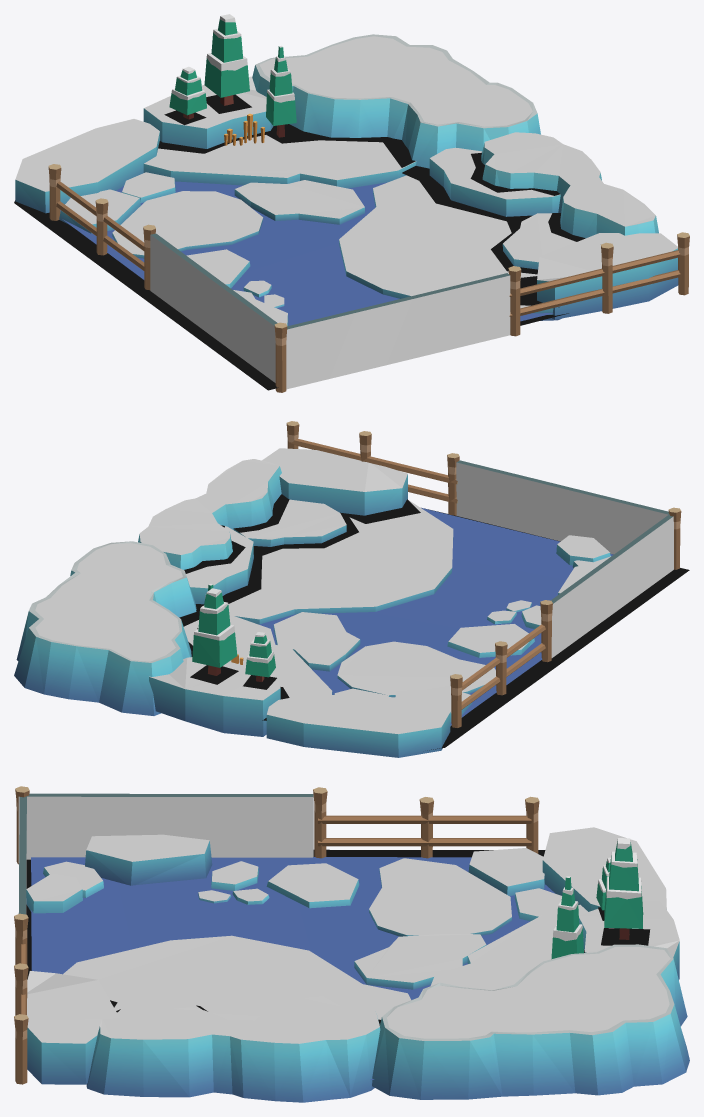
Rendered from xweilan_1021_2.FBX.
3 renders of one model, top to bottom at view 1: azimuth 30°, elevation 25°; view 2: azimuth 150°, elevation 25°; view 3: azimuth 270°, elevation 25°, orthographic. The views are drawn at different scales.
Visible parts, largest first — view 1: xweilan_1021_2; view 2: xweilan_1021_2; view 3: xweilan_1021_2.
Part boxes in pixels (x1,y1,x2,y2): xweilan_1021_2: [14, 14, 689, 392]; xweilan_1021_2: [14, 421, 689, 757]; xweilan_1021_2: [14, 786, 689, 1102].
Size of the model in its own units: 4486 by 1213 by 5204.
